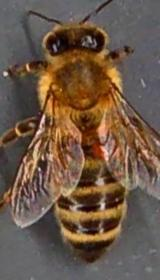varroa_mite: (89, 136, 118, 158)
